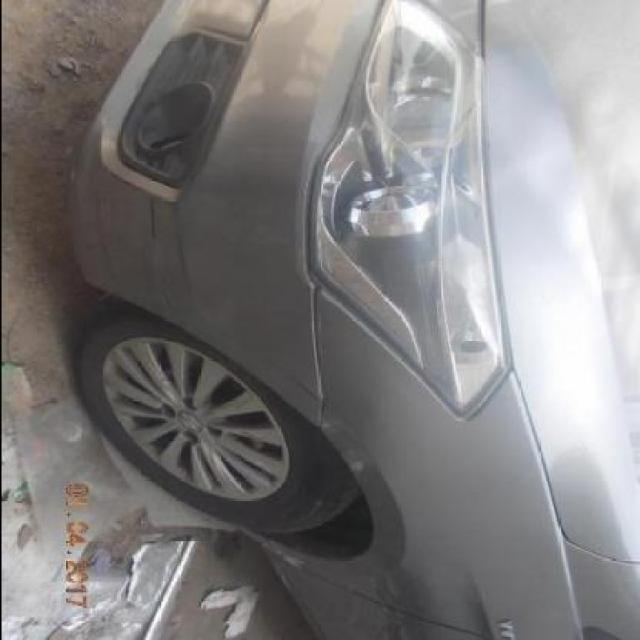damage: (257, 353, 357, 439), (89, 191, 159, 312), (142, 193, 201, 327), (303, 277, 326, 428), (89, 153, 145, 197)
